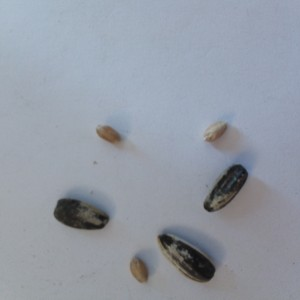girasol: (156, 224, 219, 286), (200, 161, 253, 216), (50, 194, 111, 233)
trigo: (126, 254, 150, 286), (203, 118, 229, 145), (92, 122, 122, 145)
